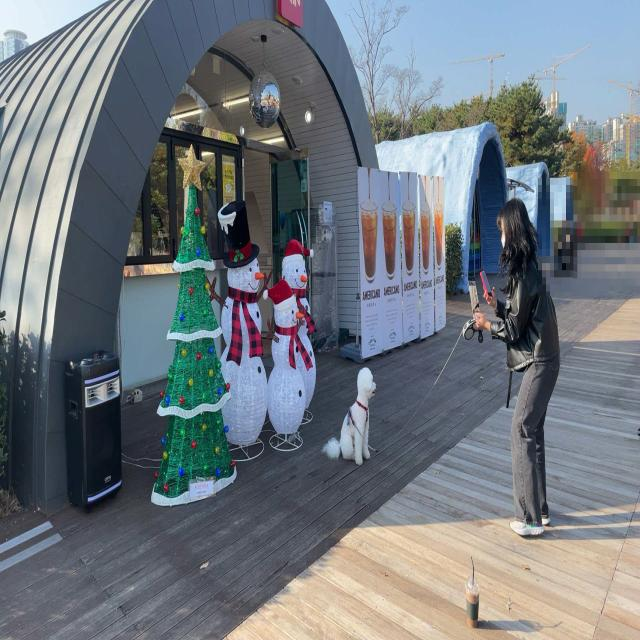Leashed_Dog: (322, 318, 522, 467)
